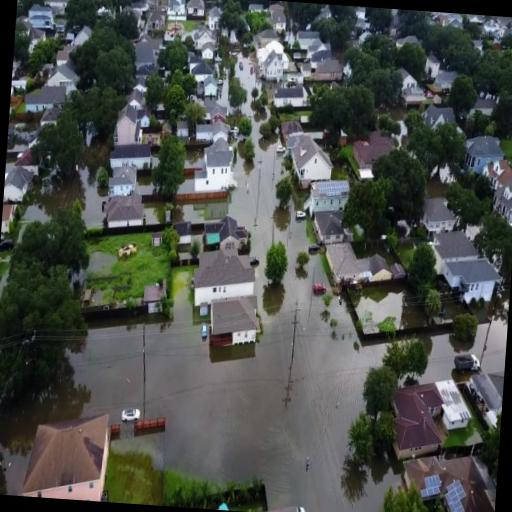flood: (0, 252, 392, 512), (229, 102, 306, 255), (254, 239, 319, 372), (325, 444, 402, 512), (20, 174, 104, 229), (248, 136, 290, 232), (355, 292, 402, 334), (418, 335, 456, 384), (480, 320, 508, 374)
house: (16, 404, 111, 502), (384, 374, 466, 468), (427, 220, 504, 308), (398, 450, 498, 512), (190, 246, 265, 306), (184, 130, 238, 202), (206, 289, 264, 351), (286, 130, 338, 191), (321, 240, 375, 292), (100, 177, 145, 237), (464, 373, 504, 433), (347, 130, 386, 186), (462, 134, 506, 180), (306, 177, 352, 220), (110, 141, 158, 181), (488, 161, 512, 231), (252, 36, 284, 84), (216, 212, 248, 254), (422, 200, 460, 234), (4, 163, 34, 205), (48, 60, 82, 95), (309, 50, 342, 84), (397, 70, 423, 112), (274, 84, 310, 114), (420, 102, 454, 132), (133, 36, 157, 76), (115, 104, 139, 138), (23, 92, 58, 114), (368, 252, 392, 283), (0, 200, 16, 246), (27, 4, 56, 29), (270, 0, 290, 34), (193, 30, 217, 52), (185, 0, 206, 23), (192, 61, 214, 81), (202, 76, 218, 99), (149, 9, 166, 29), (208, 5, 222, 29), (45, 0, 69, 12), (170, 0, 185, 15)
